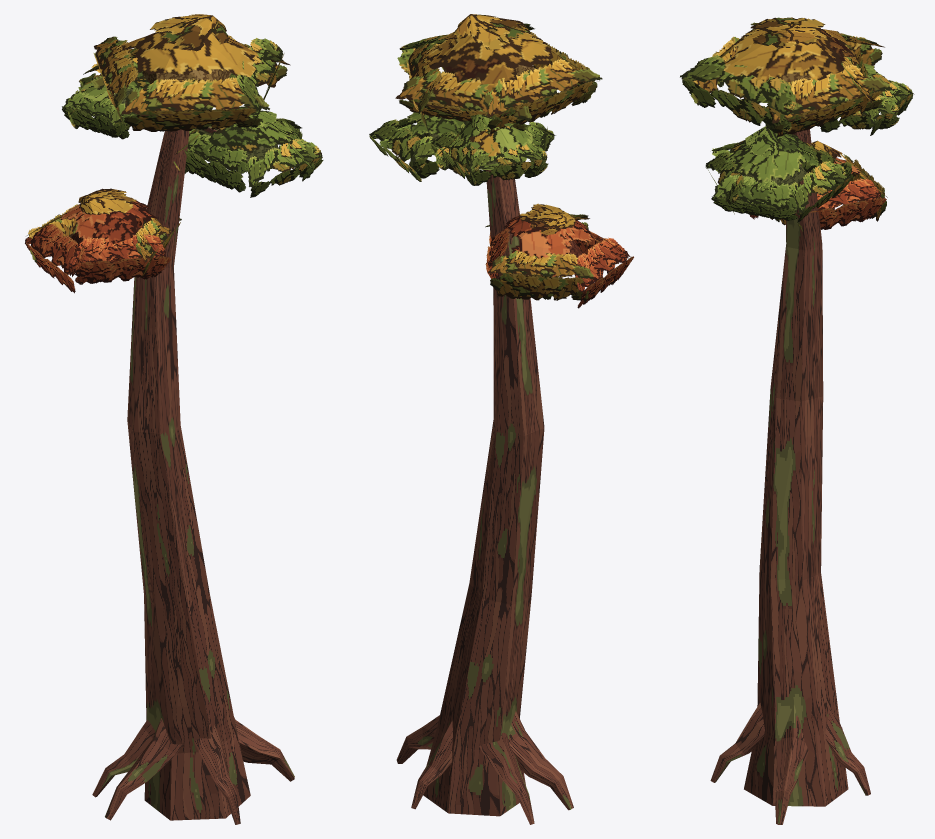
Rendered from SM_TR02_TallNarrow.fbx.
3 renders of one model, left to right at view 1: azimuth 30°, elevation 25°; view 2: azimuth 150°, elevation 25°; view 3: azimuth 270°, elevation 25°, orthographic. The views are drawn at different scales.
Visible parts, largest first — view 1: TR02_Bark, TR02_Crown; view 2: TR02_Bark, TR02_Crown; view 3: TR02_Bark, TR02_Crown.
Boxes of the visible parts, bbox=[...] form: TR02_Bark: bbox=[92, 126, 294, 824]; TR02_Crown: bbox=[25, 14, 323, 293]; TR02_Bark: bbox=[396, 109, 573, 824]; TR02_Crown: bbox=[369, 14, 633, 308]; TR02_Bark: bbox=[710, 129, 870, 824]; TR02_Crown: bbox=[680, 17, 914, 231].
Size of the model in its own units: 3.04 by 8.55 by 2.54.
